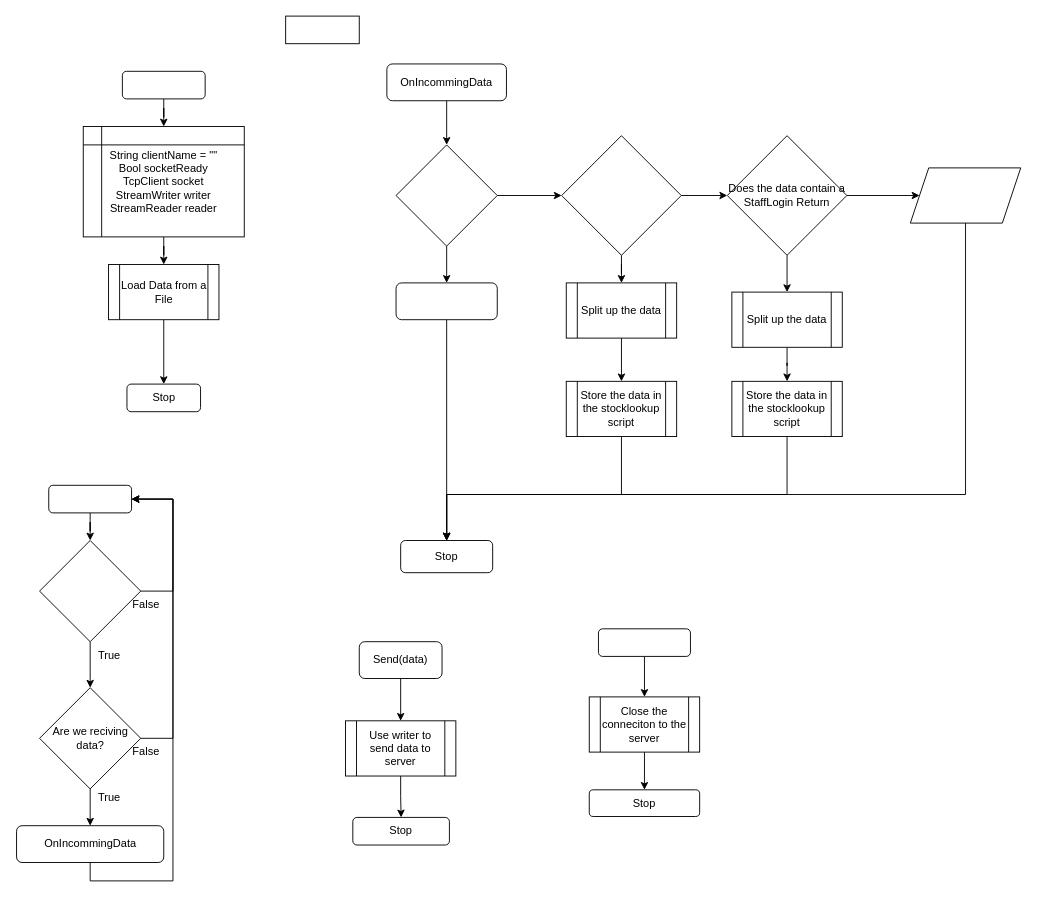
The diagram is 1037 pixels wide and 904 high, and some of its shapes have lost their labels. The shapes that lost their labels are listed below. From the top down, each one's centre as x and y in pixels, then its label:
At (322,29): "Server.cs".
At (163,84): "Start".
At (446,195): "Does the data contain '&NAME'".
At (621,195): "Does the data contain a StockLookup Return".
At (965,195): "Output Error".
At (446,301): "Send(clientName)".
At (90,498): "Update".
At (90,591): "Are we connected to the server?".
At (644,642): "CloseSocket".
